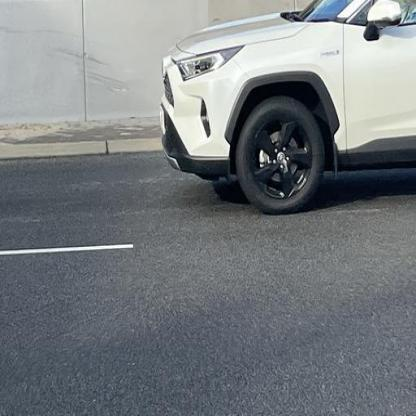Tire: (235, 96, 325, 216)
